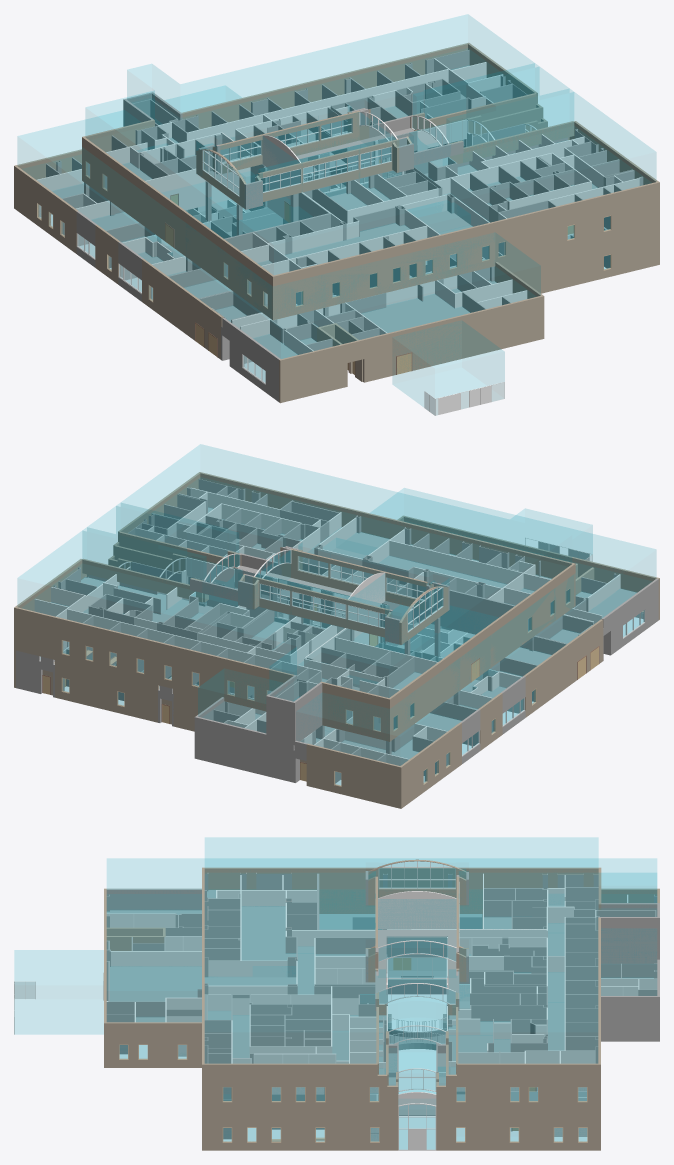
3 views of the same model, one above another, from view 1: azimuth 30°, elevation 25°; view 2: azimuth 150°, elevation 25°; view 3: azimuth 270°, elevation 25° (orthographic). The views are drawn at different scales.
Visible parts, largest first — view 1: 0_IXpwL5b29BZ7C0XgKBd3, 0_IXpwL5b29BZ7C0XgKBsS, 3LbNSBzHHBSuzhUUvuwAbw, 3LbNSBzHHBSuzhUUvuwBdQ, 3LbNSBzHHBSuzhUUvuwARp, 3LbNSBzHHBSuzhUUvuwBYQ, 1NvbzFDrT8ePCfWUZHOCVS, 3LbNSBzHHBSuzhUUvuwAJL, 0_IXpwL5b29BZ7C0XgKBdO, 3LbNSBzHHBSuzhUUvuwBG4, 0_IXpwL5b29BZ7C0XgKBf4, 0$T_kKFfj6eQu9LjJc1L4V (+45 smaller); view 2: 0_IXpwL5b29BZ7C0XgKBd3, 0_IXpwL5b29BZ7C0XgKBsS, 3LbNSBzHHBSuzhUUvuwAJL, 3LbNSBzHHBSuzhUUvuwARp, 3LbNSBzHHBSuzhUUvuwAbw, 3LbNSBzHHBSuzhUUvuwB0x, 3LbNSBzHHBSuzhUUvuwBEp, 3LbNSBzHHBSuzhUUvuwBG4, 3LbNSBzHHBSuzhUUvuwB4_, 3LbNSBzHHBSuzhUUvuwAOJ, 0_IXpwL5b29BZ7C0XgKBf4, 0$T_kKFfj6eQu9LjJc1L4V (+46 smaller); view 3: 0_IXpwL5b29BZ7C0XgKBd3, 0_IXpwL5b29BZ7C0XgKBsS, 3LbNSBzHHBSuzhUUvuwARp, 3LbNSBzHHBSuzhUUvuwAYU, 1NvbzFDrT8ePCfWUZHOCVS, 0otfaO0qPDAhynjJ6DnL_y, 3LbNSBzHHBSuzhUUvuwAes, 3LbNSBzHHBSuzhUUvuwBiP, 0_IXpwL5b29BZ7C0XgKBf4, 0ClPCUC7jCQRnj1dhupMDM, 3LbNSBzHHBSuzhUUvuwBWM, 2_TmT90dD0x8tJSTjyTb4R (+76 smaller).
Part boxes in pixels (x1=…): 0_IXpwL5b29BZ7C0XgKBd3: x1=86, y1=15, x2=655, y2=274; 0_IXpwL5b29BZ7C0XgKBsS: x1=18, y1=111, x2=540, y2=358; 3LbNSBzHHBSuzhUUvuwAbw: x1=271, y1=182, x2=657, y2=320; 3LbNSBzHHBSuzhUUvuwBdQ: x1=279, y1=296, x2=542, y2=403; 3LbNSBzHHBSuzhUUvuwARp: x1=82, y1=136, x2=273, y2=318; 3LbNSBzHHBSuzhUUvuwBYQ: x1=494, y1=226, x2=657, y2=293; 1NvbzFDrT8ePCfWUZHOCVS: x1=393, y1=321, x2=504, y2=406; 3LbNSBzHHBSuzhUUvuwAJL: x1=181, y1=43, x2=467, y2=129; 0_IXpwL5b29BZ7C0XgKBdO: x1=447, y1=89, x2=573, y2=146; 3LbNSBzHHBSuzhUUvuwBG4: x1=142, y1=259, x2=223, y2=359; 0_IXpwL5b29BZ7C0XgKBf4: x1=467, y1=67, x2=568, y2=116; 0$T_kKFfj6eQu9LjJc1L4V: x1=14, y1=165, x2=77, y2=253; 0_IXpwL5b29BZ7C0XgKBd3: x1=18, y1=444, x2=571, y2=700; 0_IXpwL5b29BZ7C0XgKBsS: x1=301, y1=488, x2=655, y2=765; 3LbNSBzHHBSuzhUUvuwAJL: x1=16, y1=607, x2=294, y2=711; 3LbNSBzHHBSuzhUUvuwARp: x1=388, y1=564, x2=574, y2=741; 3LbNSBzHHBSuzhUUvuwAbw: x1=200, y1=472, x2=575, y2=606; 3LbNSBzHHBSuzhUUvuwB0x: x1=306, y1=743, x2=399, y2=808; 3LbNSBzHHBSuzhUUvuwBEp: x1=55, y1=660, x2=159, y2=722; 3LbNSBzHHBSuzhUUvuwBG4: x1=523, y1=619, x2=603, y2=717; 3LbNSBzHHBSuzhUUvuwB4_: x1=197, y1=717, x2=267, y2=775; 3LbNSBzHHBSuzhUUvuwAOJ: x1=320, y1=681, x2=388, y2=741; 0_IXpwL5b29BZ7C0XgKBf4: x1=87, y1=506, x2=186, y2=554; 0$T_kKFfj6eQu9LjJc1L4V: x1=399, y1=722, x2=461, y2=808; 0_IXpwL5b29BZ7C0XgKBd3: x1=205, y1=838, x2=656, y2=1062; 0_IXpwL5b29BZ7C0XgKBsS: x1=107, y1=859, x2=656, y2=1021; 3LbNSBzHHBSuzhUUvuwARp: x1=204, y1=867, x2=601, y2=913; 3LbNSBzHHBSuzhUUvuwAYU: x1=202, y1=1063, x2=398, y2=1110; 1NvbzFDrT8ePCfWUZHOCVS: x1=15, y1=950, x2=103, y2=1033; 0otfaO0qPDAhynjJ6DnL_y: x1=202, y1=1110, x2=398, y2=1150; 3LbNSBzHHBSuzhUUvuwAes: x1=436, y1=1063, x2=600, y2=1110; 3LbNSBzHHBSuzhUUvuwBiP: x1=436, y1=1110, x2=600, y2=1150; 0_IXpwL5b29BZ7C0XgKBf4: x1=386, y1=995, x2=447, y2=1088; 0ClPCUC7jCQRnj1dhupMDM: x1=378, y1=899, x2=455, y2=977; 3LbNSBzHHBSuzhUUvuwBWM: x1=104, y1=1022, x2=201, y2=1067; 2_TmT90dD0x8tJSTjyTb4R: x1=110, y1=967, x2=201, y2=1001.
Bounding box in the file's own units: 52.69 × 14.75 × 66.1.
